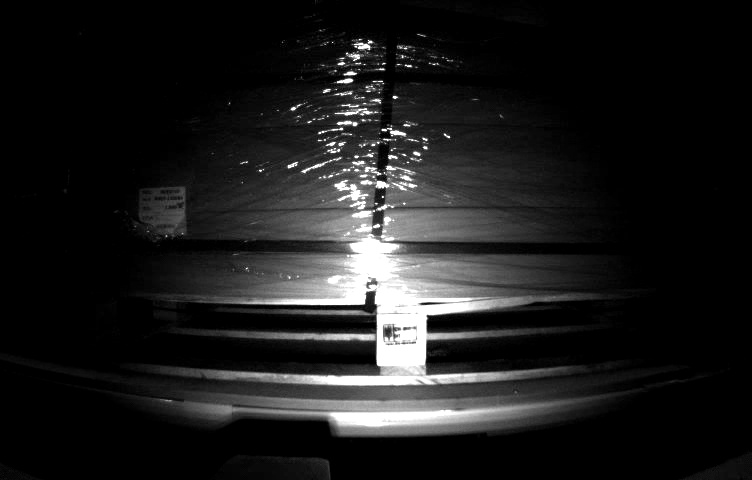True Barcode: (137, 185, 191, 238)
